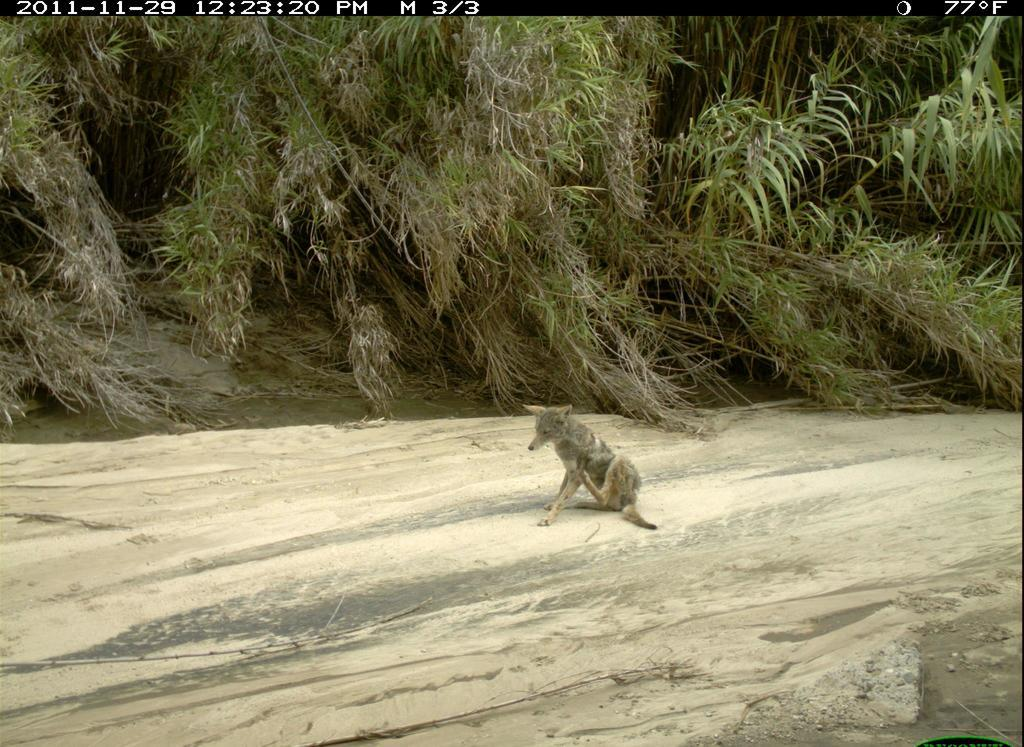coyote: (516, 400, 665, 537)
